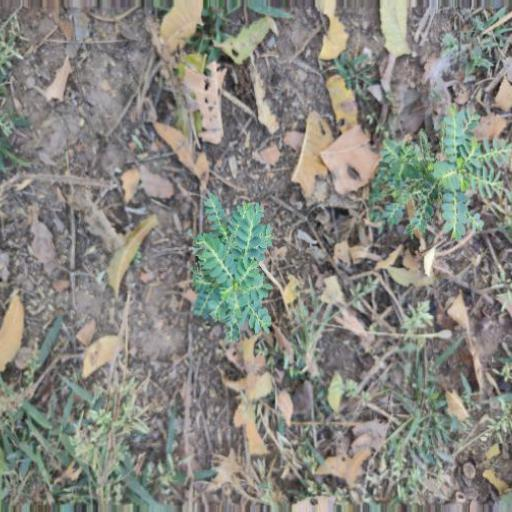weed: (373, 111, 504, 258), (182, 195, 279, 352)
